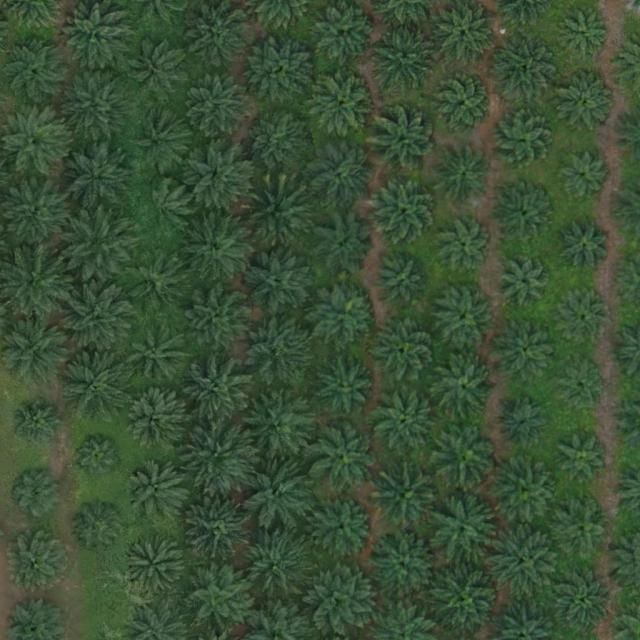Healthy: (184, 71, 255, 142), (370, 175, 441, 246), (185, 142, 256, 213), (60, 346, 131, 417), (185, 495, 256, 566), (60, 4, 131, 74), (62, 71, 132, 142), (249, 36, 319, 107), (373, 25, 443, 96), (490, 35, 560, 106), (369, 107, 440, 177), (243, 180, 313, 251), (245, 246, 315, 317), (242, 315, 313, 385), (184, 286, 254, 357), (184, 356, 254, 427), (63, 210, 133, 281), (64, 283, 134, 354), (185, 422, 255, 493), (245, 390, 316, 460), (244, 461, 314, 532), (240, 530, 310, 601), (307, 565, 378, 635), (370, 385, 440, 456), (370, 531, 440, 602), (428, 494, 498, 565), (489, 527, 560, 597), (244, 109, 314, 179), (180, 213, 250, 283), (62, 143, 132, 213), (182, 564, 252, 634), (311, 424, 381, 494), (374, 465, 444, 535), (432, 568, 502, 638), (495, 182, 558, 245), (310, 73, 373, 136), (314, 216, 377, 279), (130, 109, 193, 172), (314, 497, 377, 560), (434, 424, 497, 487), (190, 6, 252, 69), (435, 4, 497, 67), (497, 319, 559, 382), (433, 144, 495, 207), (434, 286, 496, 349), (434, 359, 496, 422), (374, 320, 436, 383), (309, 143, 371, 206), (315, 284, 377, 347), (313, 356, 375, 419), (125, 251, 188, 313), (128, 325, 190, 388), (9, 532, 72, 594), (123, 391, 185, 454), (127, 461, 189, 524), (124, 535, 186, 598), (495, 462, 558, 524), (550, 498, 613, 560), (556, 71, 618, 133), (493, 110, 555, 172), (433, 73, 495, 135), (558, 152, 613, 207), (438, 219, 493, 274), (376, 254, 431, 309), (136, 183, 191, 238), (8, 467, 63, 522), (72, 501, 127, 556), (133, 43, 187, 98), (500, 254, 554, 309), (558, 573, 612, 628), (562, 10, 609, 58), (562, 294, 609, 342), (502, 400, 549, 448), (561, 433, 608, 481), (564, 225, 611, 272), (557, 366, 604, 413)
Small: (10, 399, 65, 454), (74, 434, 121, 481)
